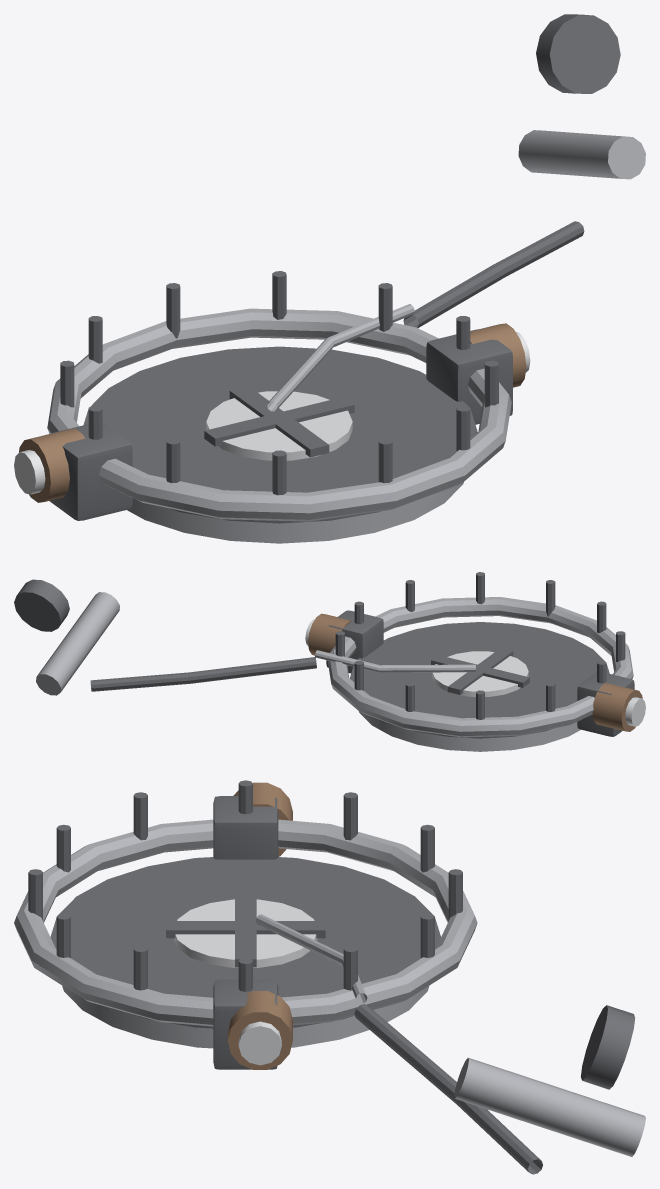
File: DD_trap_bear.fbx
3 renders of one model, top to bottom at view 1: azimuth 30°, elevation 25°; view 2: azimuth 150°, elevation 25°; view 3: azimuth 270°, elevation 25°, orthographic. The views are drawn at different scales.
Visible parts, largest first — view 1: DD_trap_bear; view 2: DD_trap_bear; view 3: DD_trap_bear.
Boxes of the visible parts, box(x1,y1,x2,y2) form: DD_trap_bear: box(14, 14, 645, 543); DD_trap_bear: box(14, 572, 645, 751); DD_trap_bear: box(14, 780, 645, 1174).
Size of the model in its own units: 1.2 by 0.296 by 0.8724.
